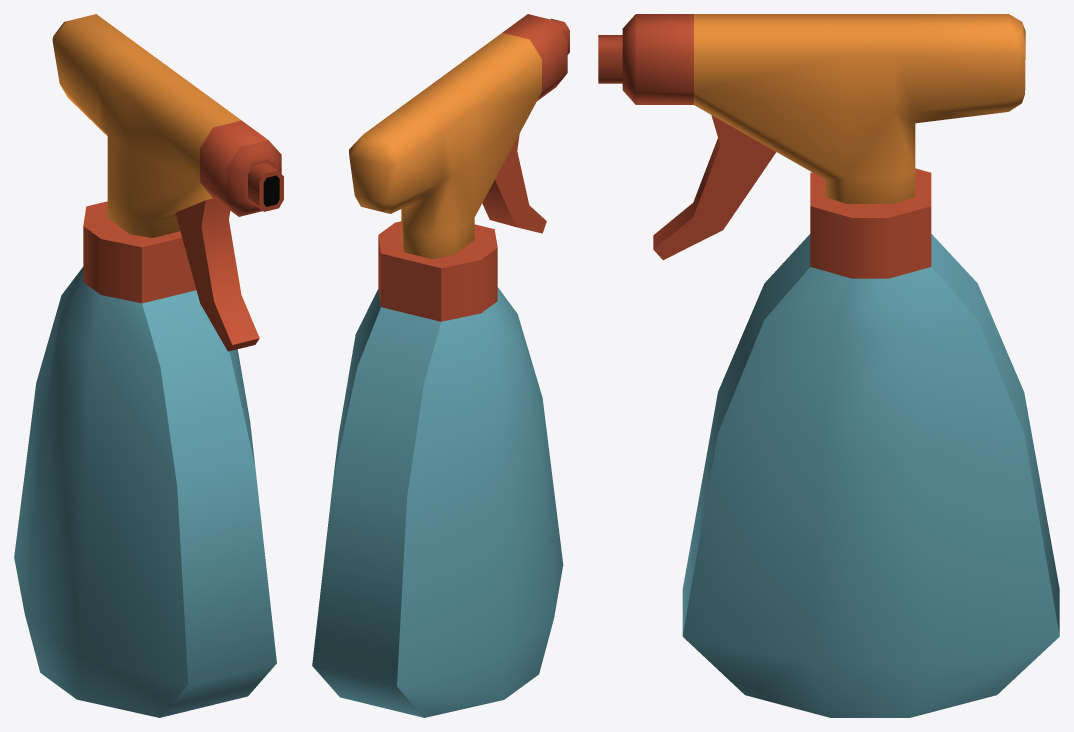
The model's file is space cleaner.fbx.
The picture shows the model from 3 angles, left to right: view 1: azimuth 30°, elevation 25°; view 2: azimuth 150°, elevation 25°; view 3: azimuth 270°, elevation 25°; orthographic projection. The views are drawn at different scales.
Parts seen in each view (by area): view 1: SpaceCleaner; view 2: SpaceCleaner; view 3: SpaceCleaner.
Boxes of the visible parts, <box> form: SpaceCleaner: <box>14,14,283,717</box>; SpaceCleaner: <box>312,14,569,717</box>; SpaceCleaner: <box>598,14,1059,717</box>.
Bounding box in the file's own units: 0.1151 × 0.351 × 0.2258.
